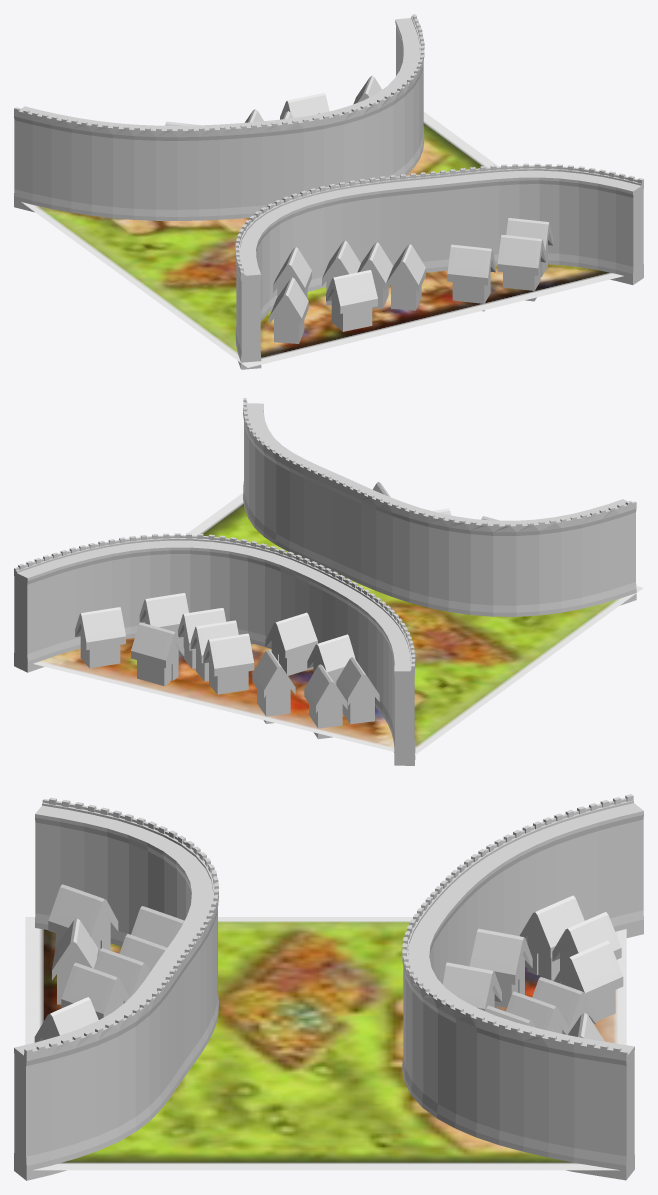
Rendered from tile7.fbx.
The picture shows the model from 3 angles, top to bottom: view 1: azimuth 30°, elevation 25°; view 2: azimuth 150°, elevation 25°; view 3: azimuth 270°, elevation 25°; orthographic projection. The views are drawn at different scales.
Visible parts, largest first — view 1: Cube.054; view 2: Cube.054; view 3: Cube.054.
Boxes of the visible parts, x1,y1,x2,y2 form: Cube.054: [14, 14, 643, 369]; Cube.054: [14, 398, 643, 765]; Cube.054: [14, 794, 643, 1180].
Bounding box in the file's own units: 101 × 24.58 × 104.
